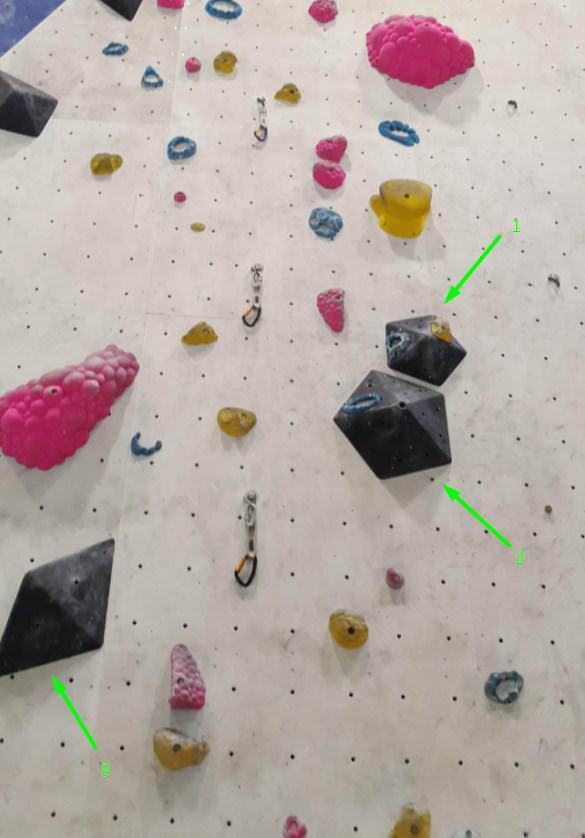hold: (0, 345, 140, 471), (365, 15, 474, 89), (370, 178, 433, 239), (168, 642, 206, 711), (153, 727, 210, 770), (328, 608, 369, 650), (387, 801, 432, 838), (484, 670, 524, 705), (316, 287, 345, 332), (217, 407, 257, 438), (309, 207, 344, 239), (378, 120, 420, 146), (313, 159, 346, 189), (315, 134, 348, 163), (180, 321, 219, 345), (89, 153, 124, 177), (341, 392, 381, 413), (385, 331, 412, 360), (167, 135, 197, 161), (130, 431, 162, 455), (205, 0, 243, 19), (308, 0, 337, 24), (273, 82, 302, 105), (282, 814, 309, 838), (213, 51, 238, 75), (141, 64, 165, 88), (431, 319, 452, 343), (102, 40, 129, 56), (385, 567, 404, 589), (185, 55, 202, 73), (156, 0, 185, 9), (190, 222, 206, 232), (174, 191, 187, 203)
volume: (0, 537, 115, 677), (332, 369, 452, 480), (386, 314, 467, 386), (0, 70, 58, 137), (100, 0, 142, 20)
